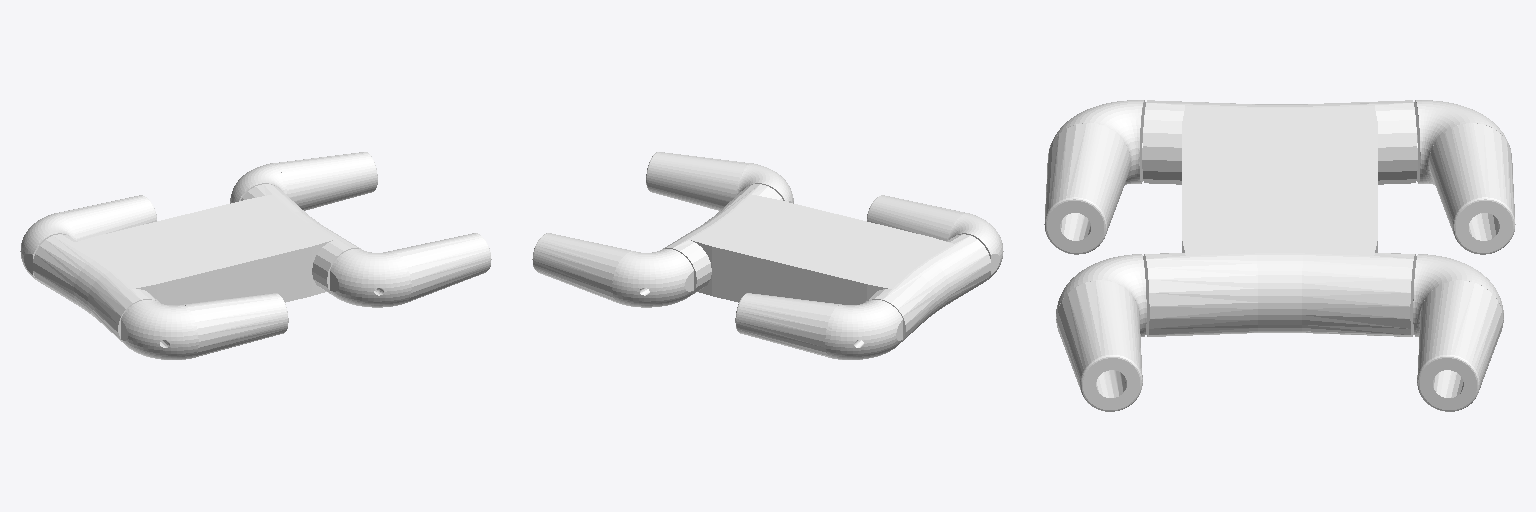
The robot description file, URDF, robot "5_degree":
<?xml version="1.0" encoding="utf-8"?>
<!-- This URDF was automatically created by SolidWorks to URDF Exporter! Originally created by [author] ([email redacted]) 
     Commit Version: 1.5.1-0-g916b5db  Build Version: 1.5.7152.31018
     For more information, please see http://wiki.ros.org/sw_urdf_exporter -->
<robot
  name="5_degree">
  <link
    name="base_link">
    <inertial>
      <origin
        xyz="-1.3878E-17 1.4057E-08 5.2042E-18"
        rpy="0 0 0" />
      <mass
        value="2.942" />
      <inertia
        ixx="0.0102730"
        ixy="1.2739E-18"
        ixz="-1.5028E-10"
        iyy="0.0389764"
        iyz="8.0721E-18"
        izz="0.0468589" />
    </inertial>
    <visual>
      <origin
        xyz="0 0 0"
        rpy="0 0 0" />
      <geometry>
        <mesh
          filename="package://5_degree/meshes/base_link.STL" />
      </geometry>
      <material
        name="">
        <color
          rgba="1 1 1 1" />
      </material>
    </visual>
    <collision>
      <origin
        xyz="0 0 0"
        rpy="0 0 0" />
      <geometry>
        <mesh
          filename="package://5_degree/meshes/base_link.STL" />
      </geometry>
    </collision>
  </link>
  <link
    name="left_front_link">
    <inertial>
      <origin
        xyz="-2.7801E-08 0.059752 -0.030921"
        rpy="0 0 0" />
      <mass
        value="0.092" />
      <inertia
        ixx="0.0002604"
        ixy="5.1379E-10"
        ixz="9.8825E-10"
        iyy="0.0000502"
        iyz="0.45E-05"
        izz="0.0002599" />
    </inertial>
    <visual>
      <origin
        xyz="0 0 0"
        rpy="0 0 0" />
      <geometry>
        <mesh
          filename="package://5_degree/meshes/left_front_link.STL" />
      </geometry>
      <material
        name="">
        <color
          rgba="1 1 1 1" />
      </material>
    </visual>
    <collision>
      <origin
        xyz="0 0 0"
        rpy="0 0 0" />
      <geometry>
        <mesh
          filename="package://5_degree/meshes/left_front_link.STL" />
      </geometry>
    </collision>
  </link>
  <joint
    name="left_front_leg"
    type="continuous">
    <origin
      xyz="0.13898 0.10261 0"
      rpy="1.5708 1.5708 0" />
    <parent
      link="base_link" />
    <child
      link="left_front_link" />
    <axis
      xyz="0 0.087156 -0.99619" />
    <limit
      effort="5"
      velocity="487" />
  </joint>
  <link
    name="right_front_link">
    <inertial>
      <origin
        xyz="2.7801E-08 0.059752 0.030921"
        rpy="0 0 0" />
      <mass
        value="0.092" />
      <inertia
        ixx="0.0002604"
        ixy="-5.1379E-10"
        ixz="9.8825E-10"
        iyy="0.0000502"
        iyz="-0.45E-05"
        izz="0.0002599" />
    </inertial>
    <visual>
      <origin
        xyz="0 0 0"
        rpy="0 0 0" />
      <geometry>
        <mesh
          filename="package://5_degree/meshes/right_front_link.STL" />
      </geometry>
      <material
        name="">
        <color
          rgba="1 1 1 1" />
      </material>
    </visual>
    <collision>
      <origin
        xyz="0 0 0"
        rpy="0 0 0" />
      <geometry>
        <mesh
          filename="package://5_degree/meshes/right_front_link.STL" />
      </geometry>
    </collision>
  </link>
  <joint
    name="right_front_leg"
    type="continuous">
    <origin
      xyz="0.13898 -0.10261 0"
      rpy="1.5708 1.5708 0" />
    <parent
      link="base_link" />
    <child
      link="right_front_link" />
    <axis
      xyz="0 0.087156 0.99619" />
    <limit
      effort="5"
      velocity="487" />
  </joint>
  <link
    name="right_back_link">
    <inertial>
      <origin
        xyz="6.4028E-09 0.05683 0.03601"
        rpy="0 0 0" />
      <mass
        value="0.092" />
      <inertia
        ixx="0.0002604"
        ixy="-6.7283E-10"
        ixz="6.8545E-10"
        iyy="0.0000526"
        iyz="-2.27E-05"
        izz="0.0002575" />
    </inertial>
    <visual>
      <origin
        xyz="0 0 0"
        rpy="0 0 0" />
      <geometry>
        <mesh
          filename="package://5_degree/meshes/right_back_link.STL" />
      </geometry>
      <material
        name="">
        <color
          rgba="1 1 1 1" />
      </material>
    </visual>
    <collision>
      <origin
        xyz="0 0 0"
        rpy="0 0 0" />
      <geometry>
        <mesh
          filename="package://5_degree/meshes/right_back_link.STL" />
      </geometry>
    </collision>
  </link>
  <joint
    name="right_back_leg"
    type="continuous">
    <origin
      xyz="-0.13898 -0.10261 0"
      rpy="1.6581 1.5708 0" />
    <parent
      link="base_link" />
    <child
      link="right_back_link" />
    <axis
      xyz="0 0 1" />
    <limit
      effort="5"
      velocity="487" />
  </joint>
  <link
    name="left_back_link">
    <inertial>
      <origin
        xyz="-6.4028E-09 0.053475 -0.040826"
        rpy="0 0 0" />
      <mass
        value="0.092" />
      <inertia
        ixx="0.0002604"
        ixy="7.3001E-10"
        ixz="6.242E-10"
        iyy="0.0000581"
        iyz="0.0000401"
        izz="0.0002520" />
    </inertial>
    <visual>
      <origin
        xyz="0 0 0"
        rpy="0 0 0" />
      <geometry>
        <mesh
          filename="package://5_degree/meshes/left_back_link.STL" />
      </geometry>
      <material
        name="">
        <color
          rgba="1 1 1 1" />
      </material>
    </visual>
    <collision>
      <origin
        xyz="0 0 0"
        rpy="0 0 0" />
      <geometry>
        <mesh
          filename="package://5_degree/meshes/left_back_link.STL" />
      </geometry>
    </collision>
  </link>
  <joint
    name="left_back_leg"
    type="continuous">
    <origin
      xyz="-0.13898 0.10261 0"
      rpy="1.5708 1.5708 0" />
    <parent
      link="base_link" />
    <child
      link="left_back_link" />
    <axis
      xyz="0 -0.087156 -0.99619" />
    <limit
      effort="5"
      velocity="487" />
  </joint>
</robot>

--- What the picture shows (computed from the rendered views, not written in the file) ---
3 views of the same robot in one strip: view 1: azimuth 30°, elevation 25°; view 2: azimuth 150°, elevation 25°; view 3: azimuth 270°, elevation 25° (orthographic).
Model 5_degree with 5 links and 4 joints (4 continuous), rooted at base_link, posed all joints at 0.
Links seen in each view (by area): view 1: base_link, right_back_link, right_front_link, left_front_link, left_back_link; view 2: base_link, left_back_link, left_front_link, right_front_link, right_back_link; view 3: base_link, left_back_link, right_back_link, right_front_link, left_front_link.
Boxes of the visible links, x1,y1,x2,y2 form: base_link: (33, 184, 360, 341); right_back_link: (121, 293, 288, 359); right_front_link: (330, 233, 491, 307); left_front_link: (230, 152, 377, 210); left_back_link: (20, 195, 156, 281); base_link: (663, 184, 990, 341); left_back_link: (735, 293, 902, 359); left_front_link: (532, 233, 693, 307); right_front_link: (646, 152, 793, 210); right_back_link: (867, 195, 1003, 281); base_link: (1142, 100, 1417, 336); left_back_link: (1414, 100, 1515, 254); right_back_link: (1044, 100, 1145, 254); right_front_link: (1056, 254, 1146, 411); left_front_link: (1413, 254, 1503, 411).
Bounding box of the posed robot: 0.4722 × 0.3606 × 0.064 m (x, y, z).
5 mesh visuals loaded from 5 distinct referenced files (5 binary STL).